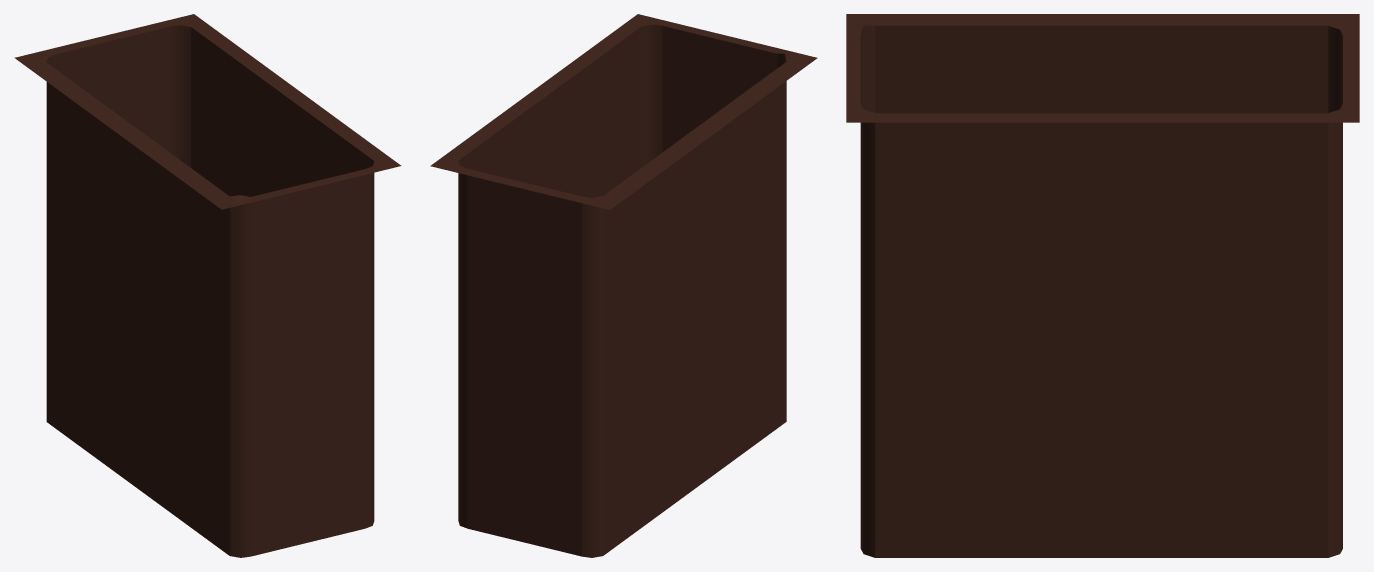
Rendered from Open Grave.fbx.
3 views of the same model, side by side, from view 1: azimuth 30°, elevation 25°; view 2: azimuth 150°, elevation 25°; view 3: azimuth 270°, elevation 25° (orthographic). The views are drawn at different scales.
Visible parts, largest first — view 1: pCube1; view 2: pCube1; view 3: pCube1.
Boxes of the visible parts, x1,y1,x2,y2 form: pCube1: [14, 14, 401, 557]; pCube1: [430, 14, 817, 557]; pCube1: [846, 14, 1359, 557].
Size of the model in its own units: 100 by 193 by 200.
